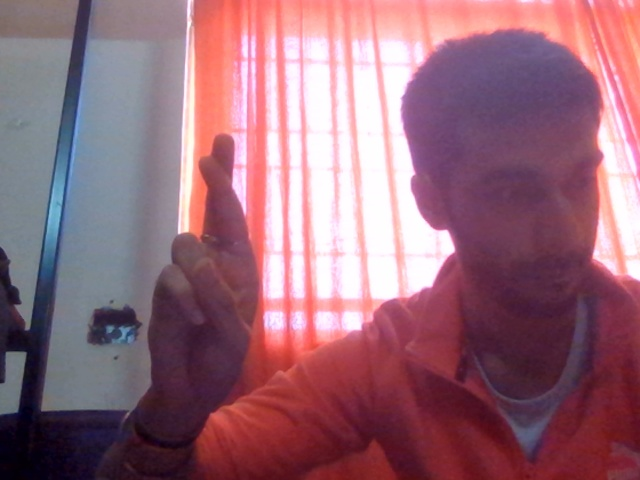R: (138, 117, 296, 439)
